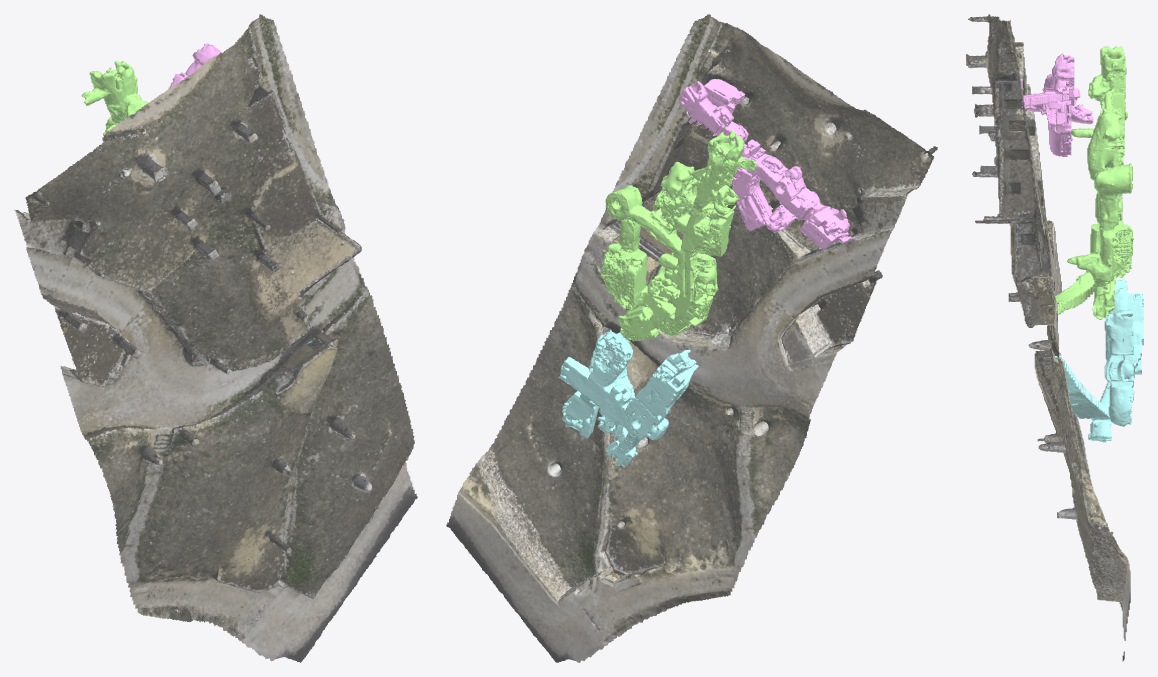
3 renders of one model, left to right at view 1: azimuth 30°, elevation 25°; view 2: azimuth 150°, elevation 25°; view 3: azimuth 270°, elevation 25°, orthographic. The views are drawn at different scales.
Bounding box in the file's own units: 0.4514 × 0.6546 × 0.1762.
